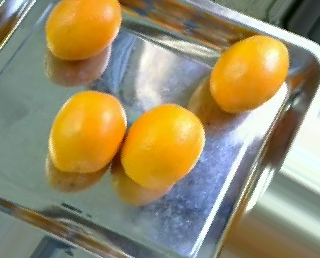Orange: (120, 102, 206, 189), (48, 90, 128, 172), (208, 34, 289, 113), (45, 1, 123, 60)
